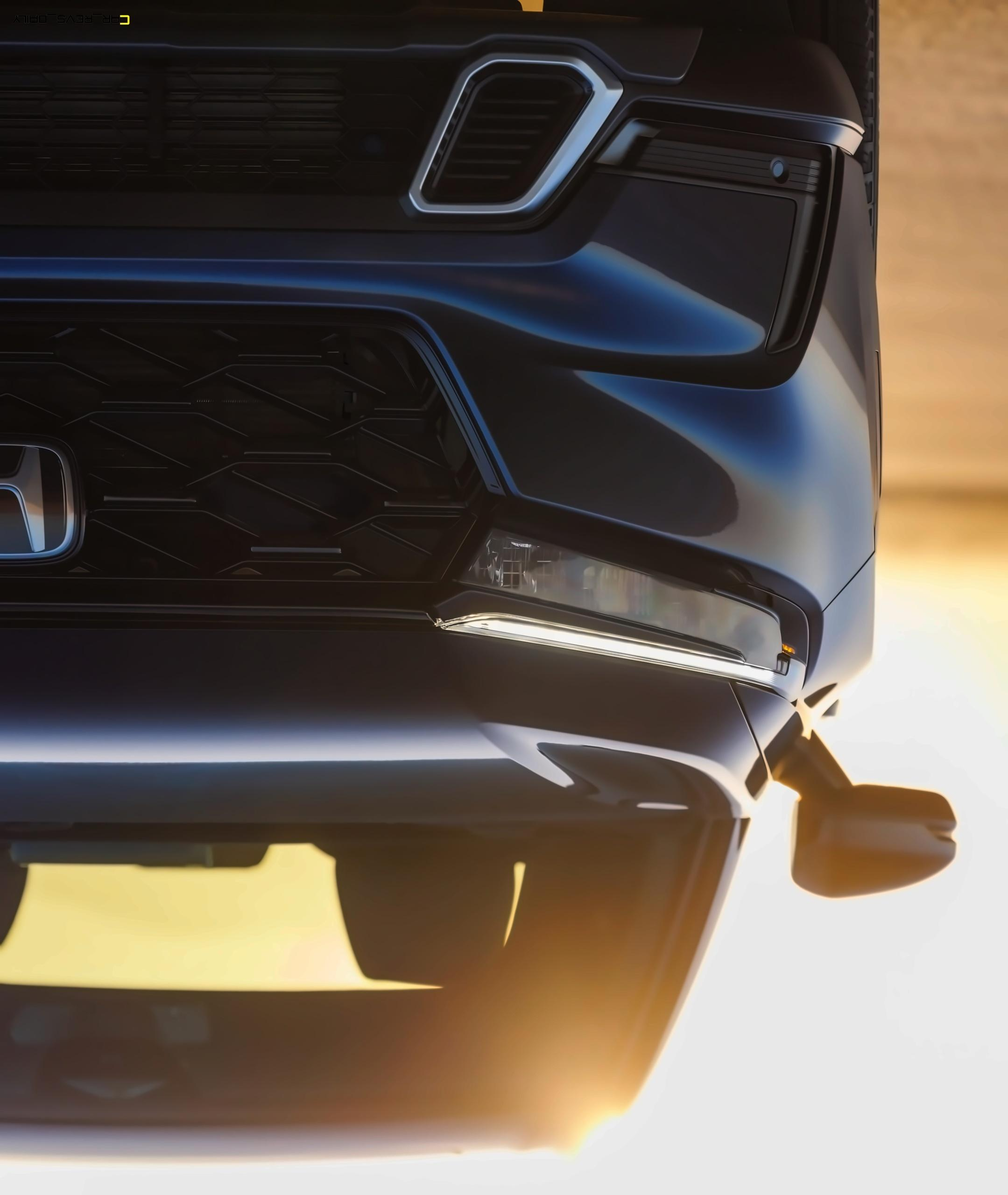Car hood: (5, 628, 761, 831)
Front bumper: (0, 0, 873, 620)
Headlight - -R-: (425, 511, 828, 717)
Side mirror - -R-: (759, 717, 958, 900)
